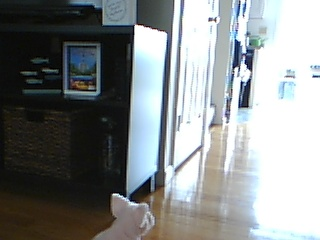piggy: (90, 191, 158, 240)
